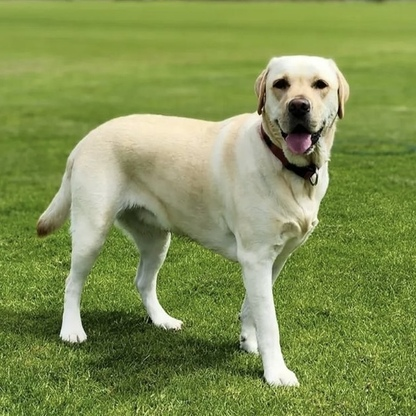labrado: (33, 50, 353, 394)
